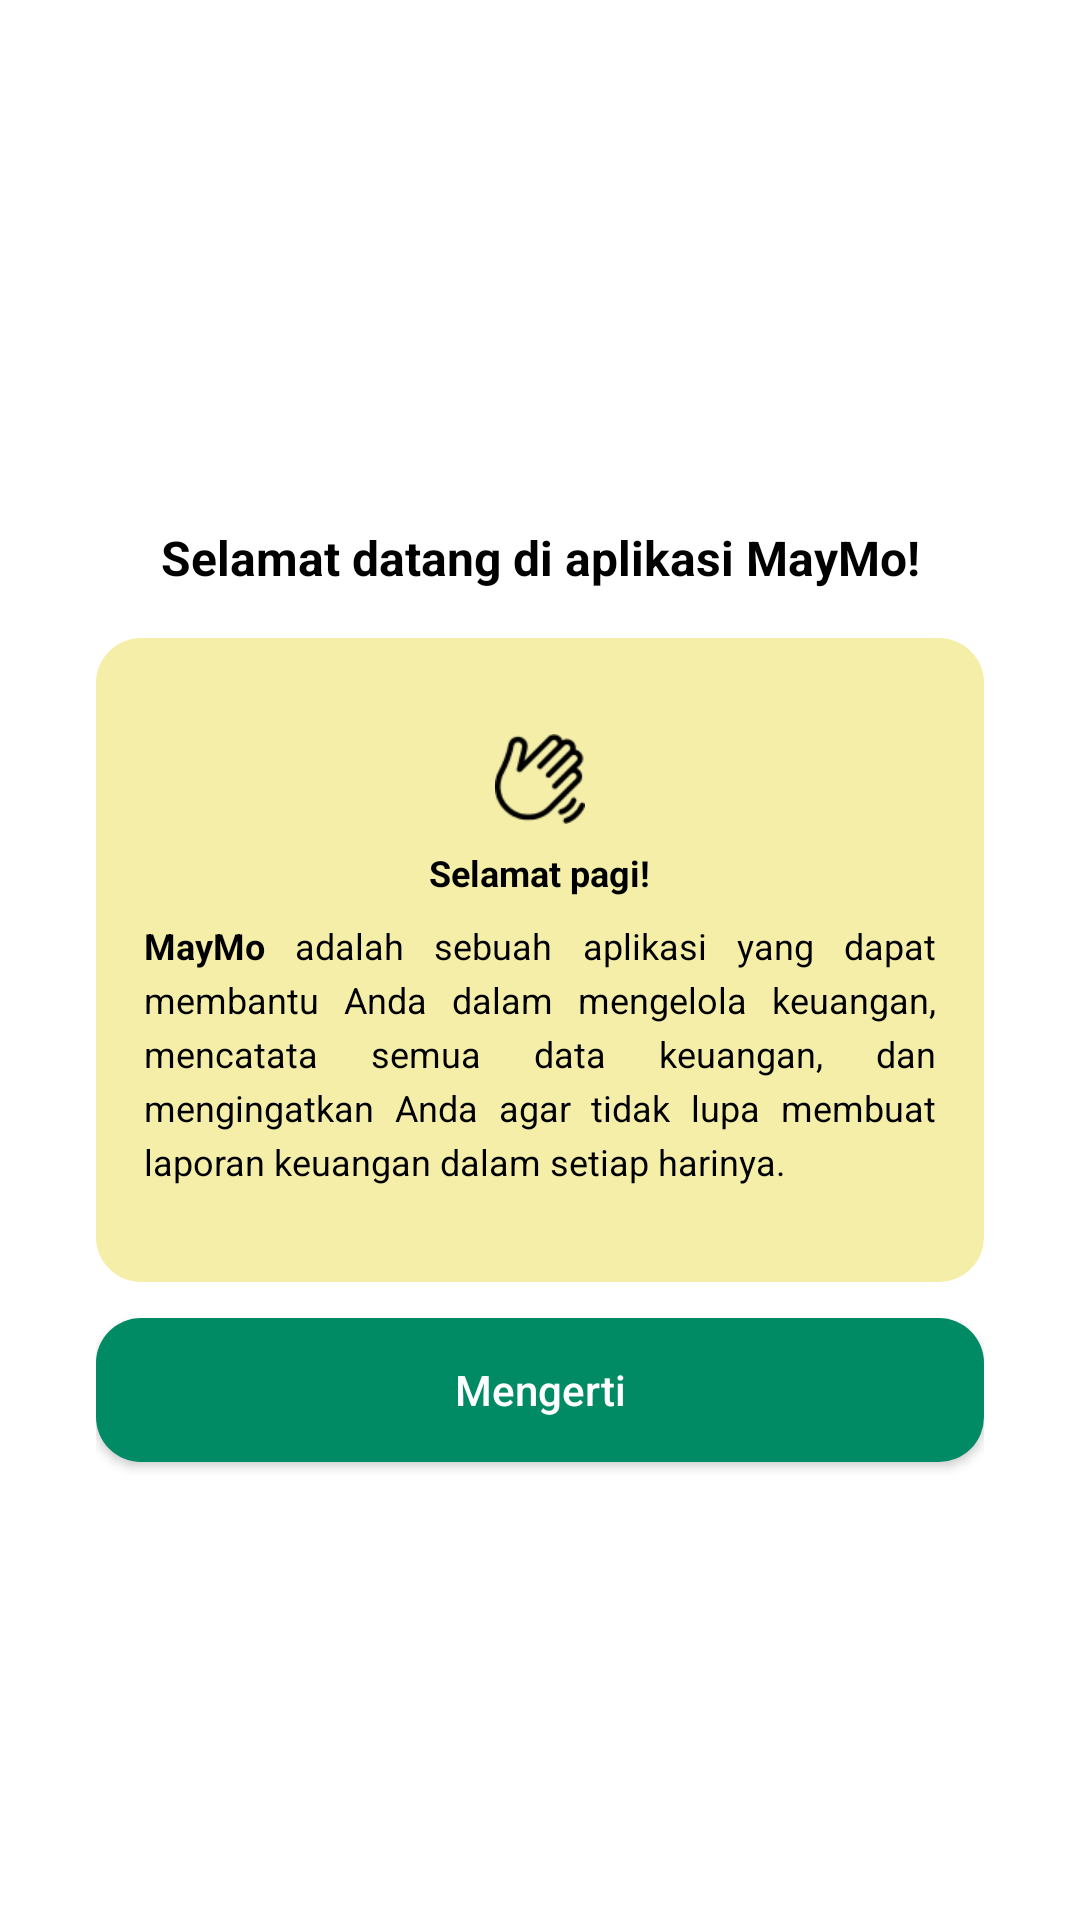

Named icons in this screenshot (1080w x 1920h) and their bounding boxes, (x1, y1, x2, y2):
welcome: (495, 734, 585, 824)
